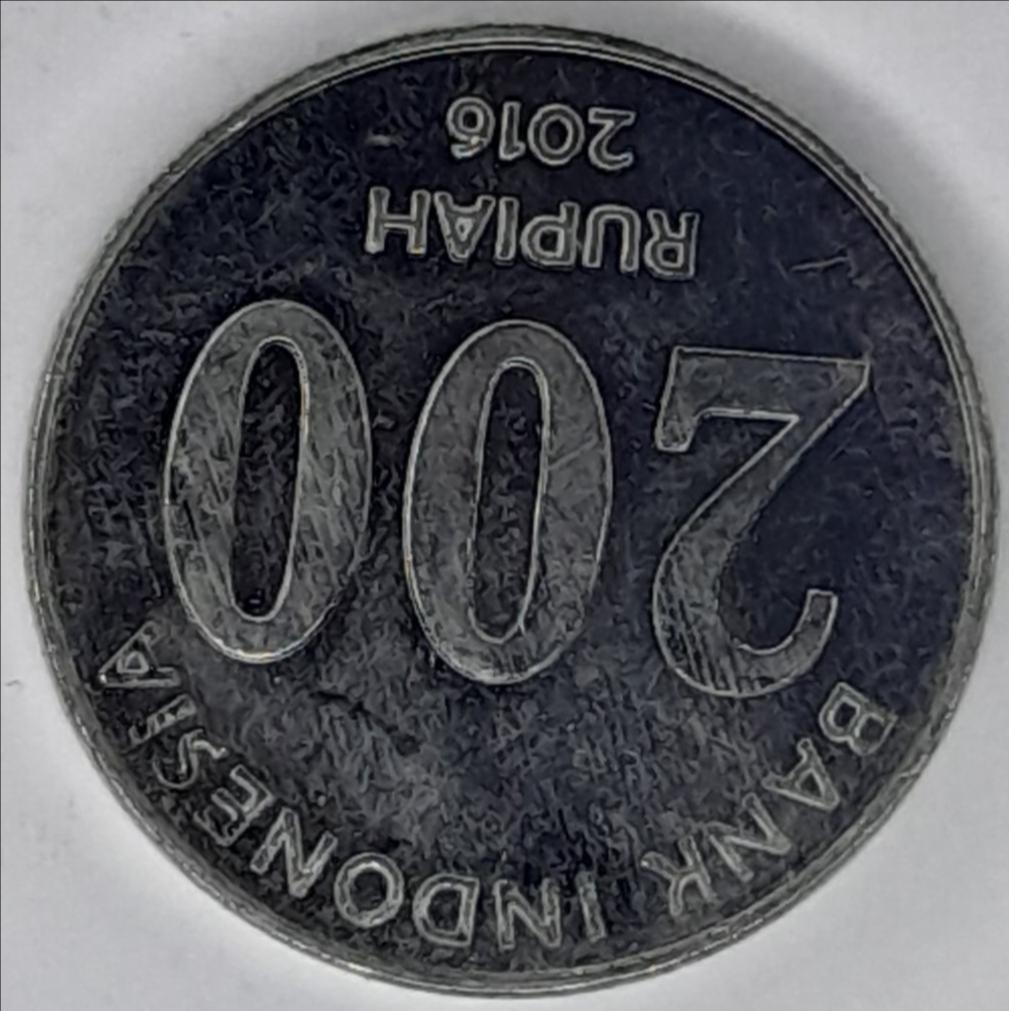coin_200_e2016: (0, 18, 1009, 1011)
